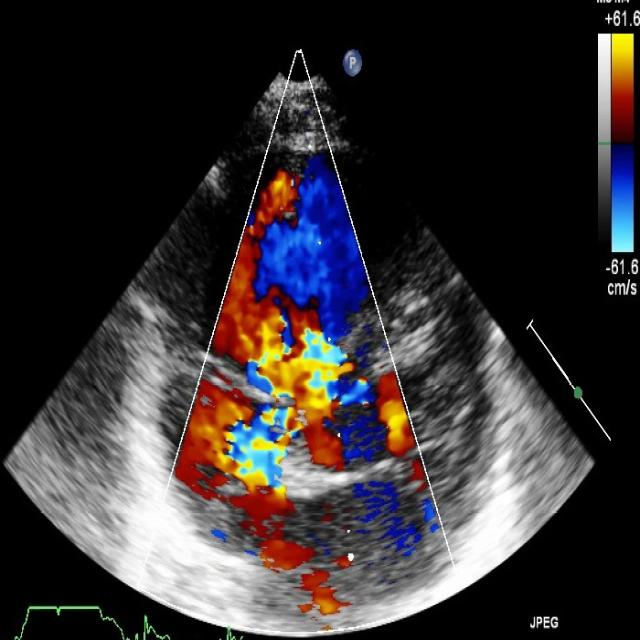ASDType2: (174, 372, 319, 577)
VSDType2: (213, 160, 374, 368)
